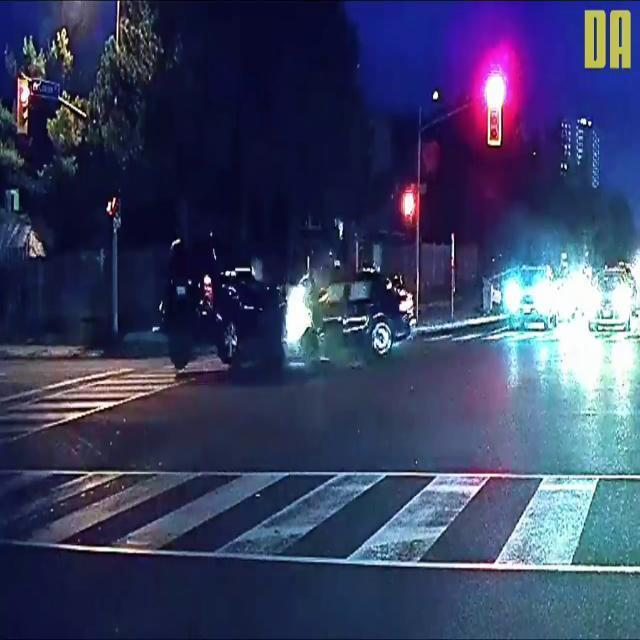accident: (157, 224, 421, 376)
non-accident: (500, 264, 640, 336)
